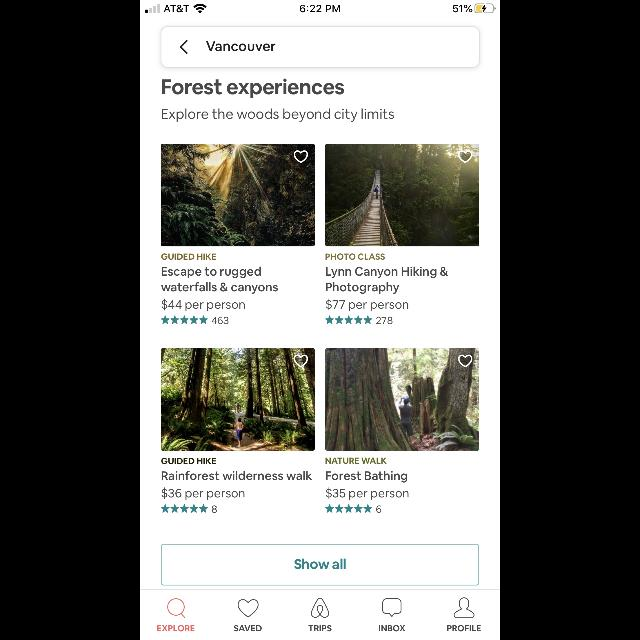icon: (454, 598, 474, 618), (382, 598, 402, 618), (160, 316, 208, 324), (326, 504, 372, 512), (162, 505, 208, 513), (326, 316, 372, 324), (238, 599, 258, 617), (168, 598, 186, 618), (294, 355, 308, 367), (458, 355, 472, 367), (294, 151, 308, 163), (458, 151, 472, 163), (180, 40, 188, 54)
image: (326, 348, 478, 450), (162, 349, 314, 451), (326, 144, 478, 246), (162, 144, 314, 246), (311, 598, 329, 618)
input: (161, 27, 479, 68)
text: (162, 79, 344, 99), (162, 108, 394, 122), (162, 282, 278, 294), (162, 472, 312, 481), (326, 268, 448, 278), (162, 298, 245, 312), (326, 488, 408, 500), (162, 488, 244, 500), (326, 299, 408, 311), (162, 268, 260, 278), (327, 471, 408, 483), (326, 282, 398, 294), (207, 41, 276, 51), (326, 253, 384, 260), (326, 458, 386, 464), (162, 458, 216, 464), (162, 254, 216, 260), (158, 625, 195, 631), (448, 625, 480, 631), (234, 625, 262, 631), (379, 625, 405, 631), (308, 625, 332, 631), (376, 316, 392, 324), (212, 317, 228, 325), (376, 506, 382, 512), (212, 506, 218, 512)
textbutton: (162, 544, 478, 586)
uppertaskbar: (140, 0, 500, 14)
